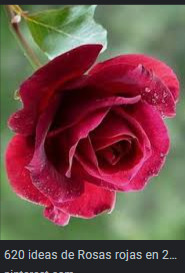RedRose: (5, 40, 185, 221)
